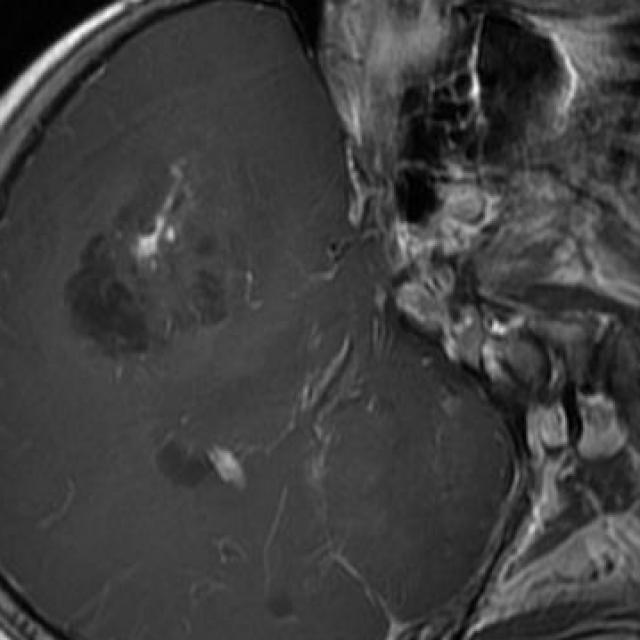glioma: (66, 153, 239, 362)
